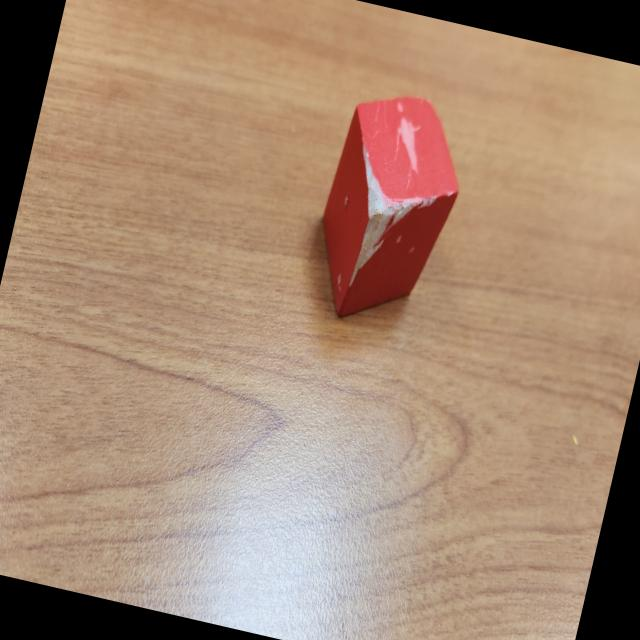broken: (305, 79, 477, 334)
